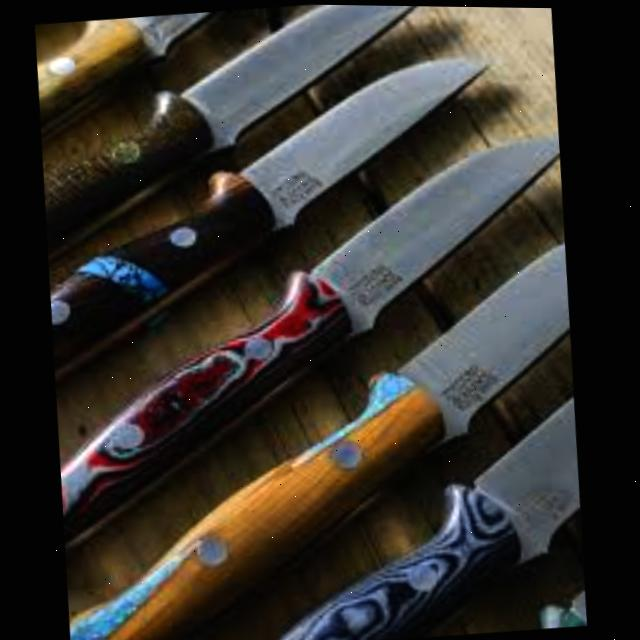Knife: (41, 221, 600, 640), (31, 43, 515, 393), (28, 0, 460, 293), (31, 5, 275, 174)
